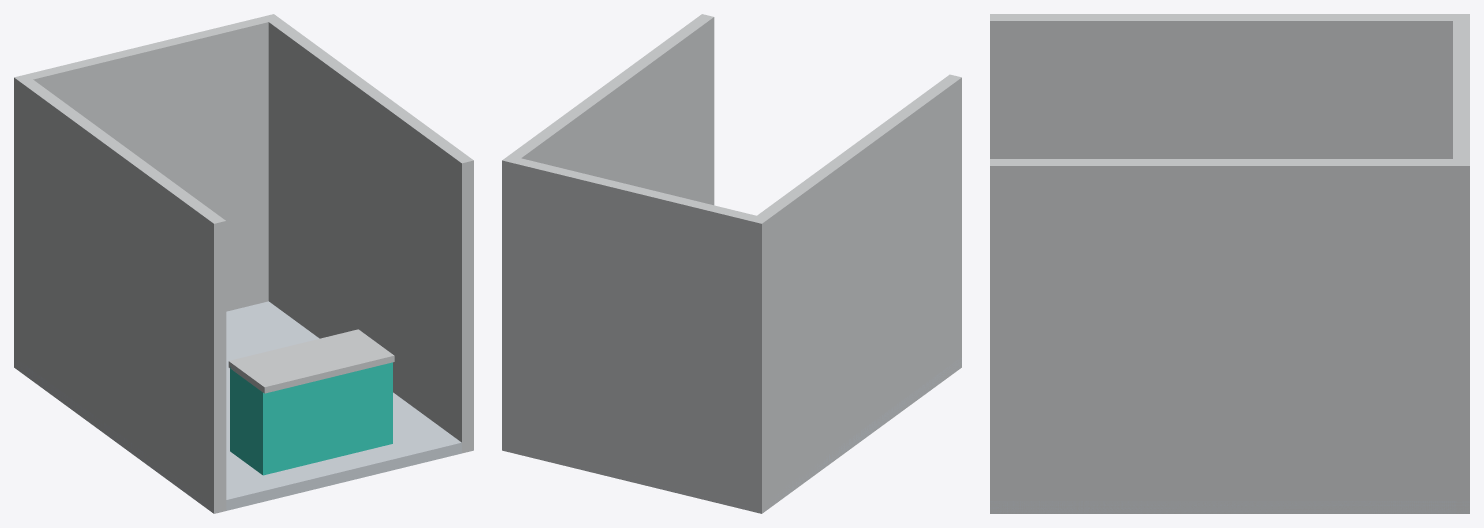
3 renders of one model, left to right at view 1: azimuth 30°, elevation 25°; view 2: azimuth 150°, elevation 25°; view 3: azimuth 270°, elevation 25°, orthographic. The views are drawn at different scales.
Parts seen in each view (by area): view 1: Exhibition Booth Concept; view 2: Exhibition Booth Concept; view 3: Exhibition Booth Concept.
Boxes of the visible parts, <box> form: Exhibition Booth Concept: <box>14,14,473,513</box>; Exhibition Booth Concept: <box>502,14,961,513</box>; Exhibition Booth Concept: <box>990,14,1469,513</box>.
Bounding box in the file's own units: 3 × 3.2 × 4.
